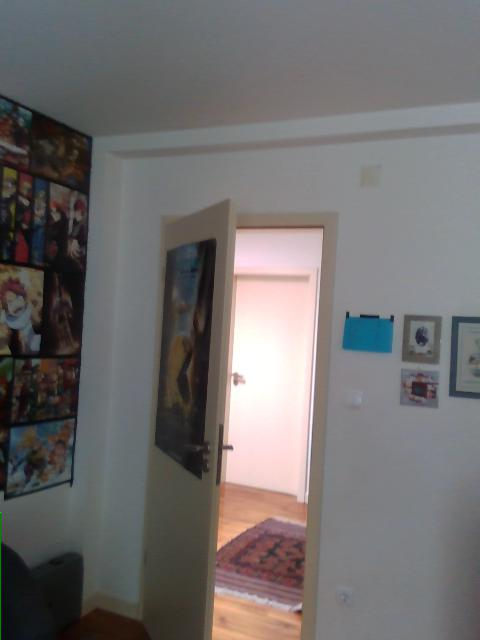semi_door: (136, 195, 338, 639)
